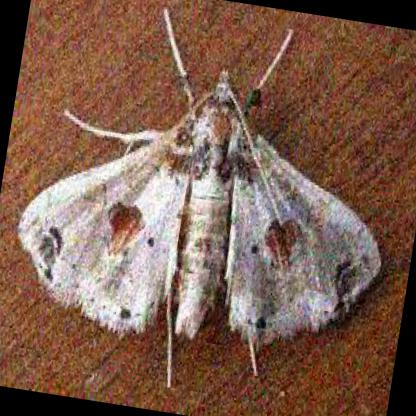leucinodes: (15, 67, 380, 347)
